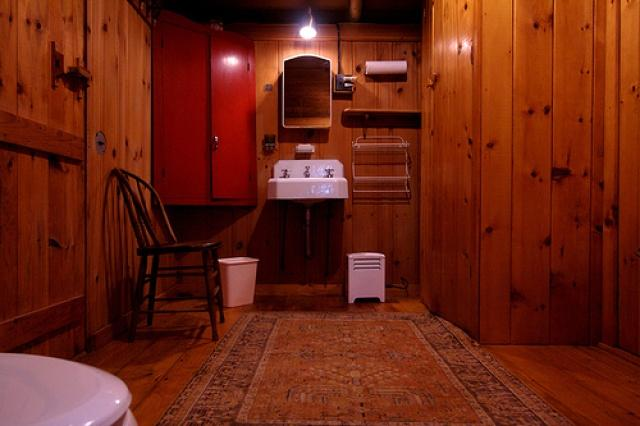Kursi: (113, 167, 224, 342)
Lemari: (150, 5, 257, 208)
